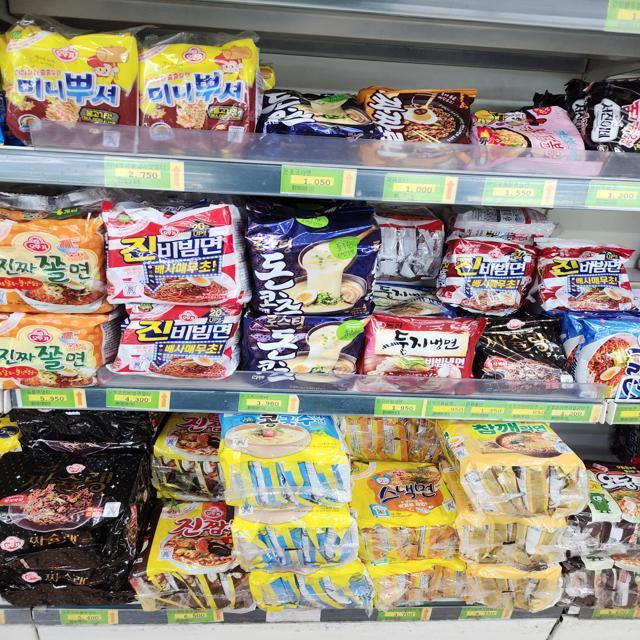product: (2, 33, 137, 158), (1, 447, 146, 562), (133, 33, 256, 163), (108, 201, 248, 308), (248, 217, 374, 319), (245, 312, 363, 396), (124, 303, 236, 381), (365, 317, 468, 396), (536, 235, 638, 314), (441, 227, 530, 315), (350, 457, 459, 527), (442, 418, 576, 474)
